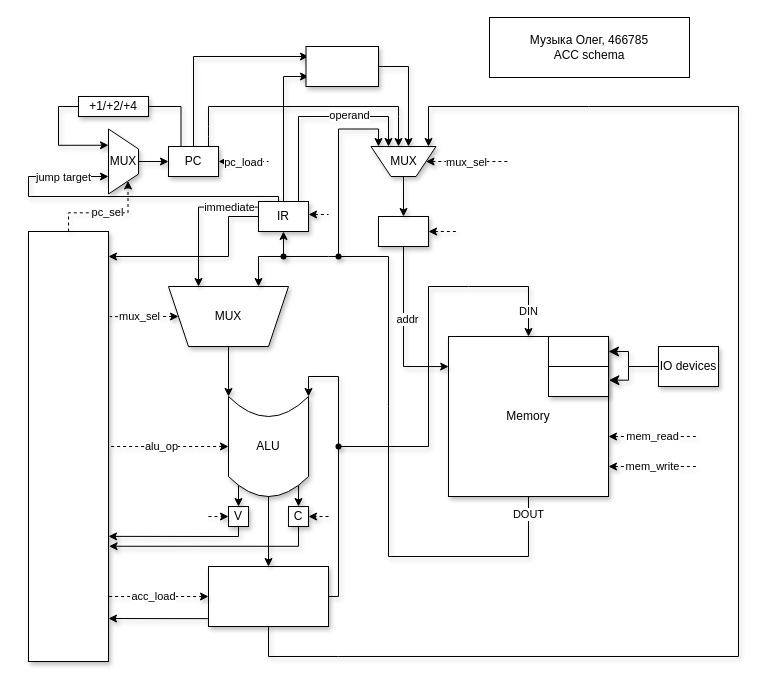
Image size: 770x689. Some labels were removed from this diagram. Here are the shapes that lost their labels. From the top down, the centre of each, then its label:
At pixel 342 68: "PC + offset".
At pixel 404 233: "AR".
At pixel 579 353: "input port 0x80".
At pixel 579 383: "output port 0x84".
At pixel 69 447: "CONTROL UNIT".
At pixel 269 598: "ACC".
